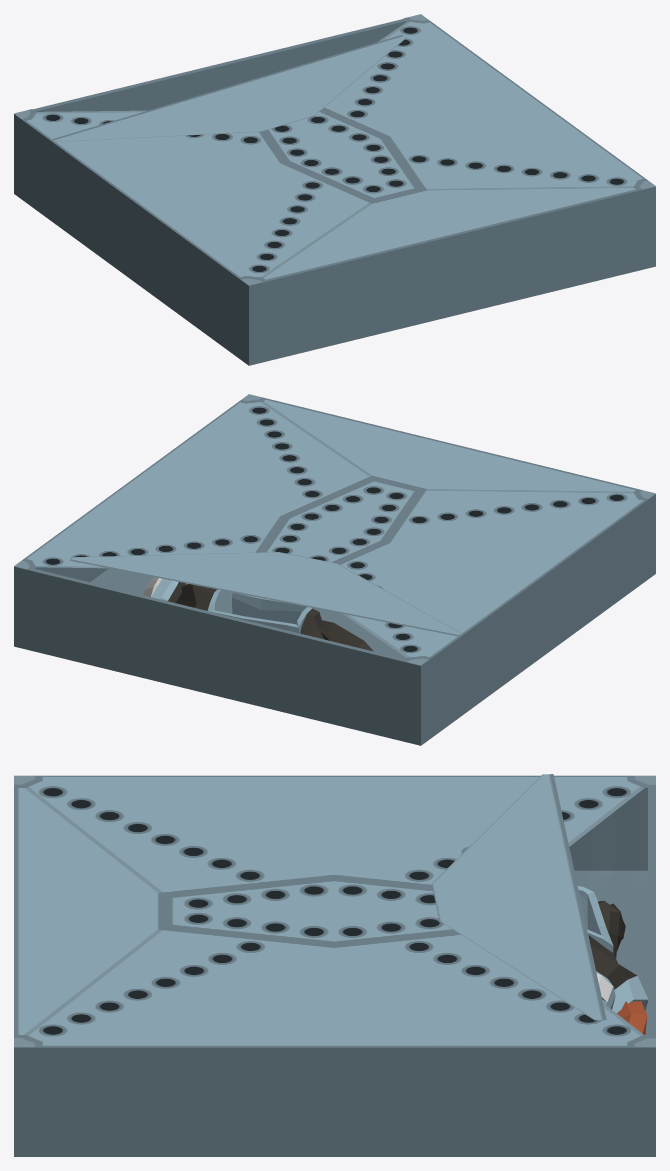
File: Spear Upgrade.fbx
3 renders of one model, top to bottom at view 1: azimuth 30°, elevation 25°; view 2: azimuth 150°, elevation 25°; view 3: azimuth 270°, elevation 25°, orthographic. The views are drawn at different scales.
Parts seen in each view (by area): view 1: Plane, Cube, Plane.001; view 2: Plane, Cube, Plane.001, Bear; view 3: Plane, Cube, Plane.001, Bear.
Part boxes in pixels (x1,y1,x2,y2): Plane: (14,14,655,285); Cube: (14,19,655,365); Plane.001: (52,35,405,141); Plane: (14,394,655,665); Cube: (14,494,655,745); Plane.001: (70,552,460,636); Bear: (143,577,373,651); Plane: (14,775,655,1046); Cube: (14,788,655,1156); Plane.001: (431,774,606,1020); Bear: (578,886,647,1034).
Bounding box in the file's own units: 6000 × 6000 × 1157.
